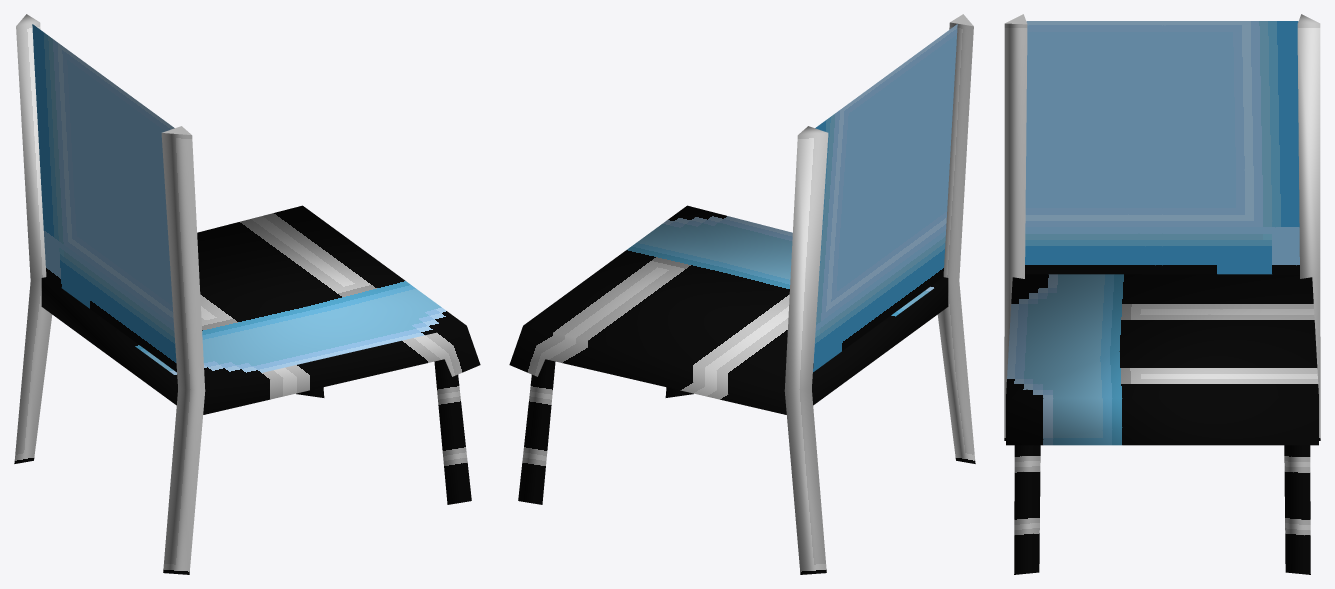
The picture shows the model from 3 angles, left to right: view 1: azimuth 30°, elevation 25°; view 2: azimuth 150°, elevation 25°; view 3: azimuth 270°, elevation 25°; orthographic projection. The views are drawn at different scales.
Parts seen in each view (by area): view 1: 3588kg_29_isu; view 2: 3588kg_29_isu; view 3: 3588kg_29_isu.
Boxes of the visible parts, x1,y1,x2,y2 form: 3588kg_29_isu: [14, 14, 480, 574]; 3588kg_29_isu: [509, 14, 975, 574]; 3588kg_29_isu: [1004, 14, 1320, 574].
Bounding box in the file's own units: 0.7886 × 1.07 × 0.7314.
1 material, 1 textured.
